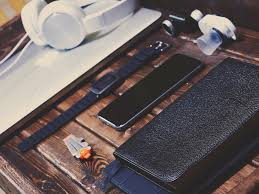mobil: (96, 51, 204, 129)
